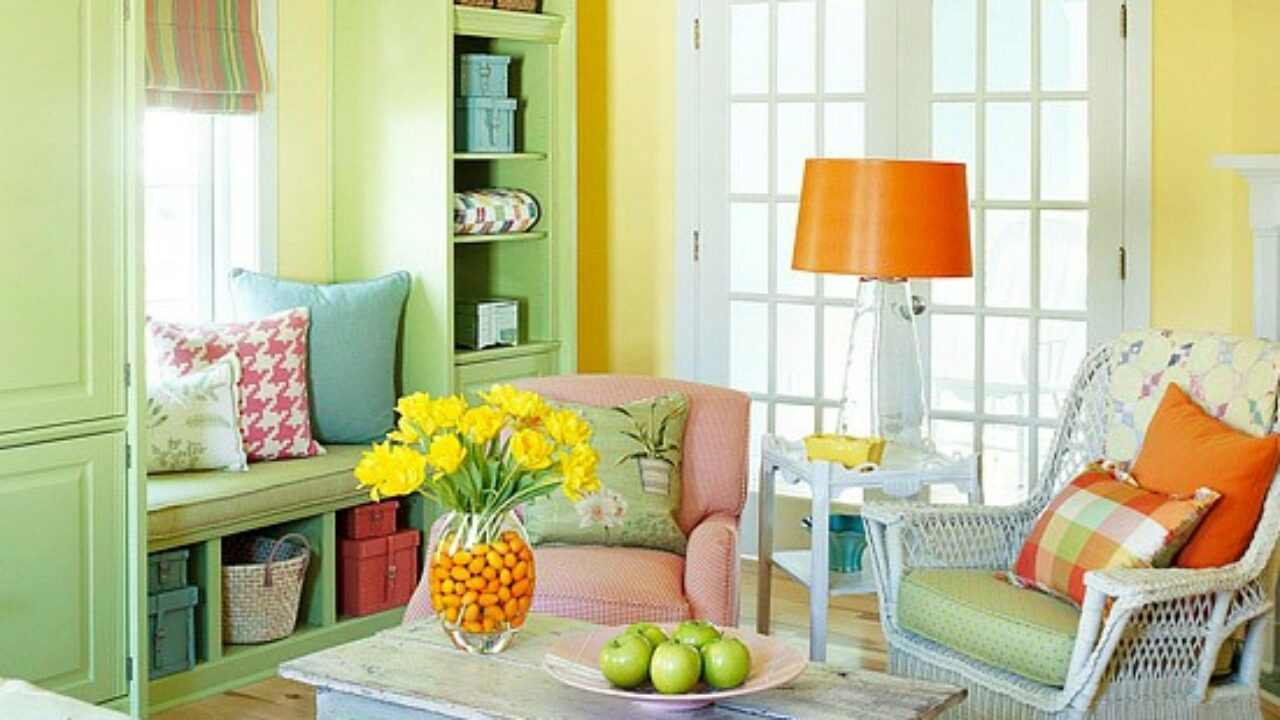biru: (310, 282, 404, 436), (459, 60, 517, 150), (832, 514, 867, 574)
hijau: (905, 571, 1075, 668), (604, 629, 746, 686)
kuning: (369, 393, 591, 494), (805, 431, 887, 468)
orange: (803, 155, 980, 285), (1145, 392, 1278, 564), (433, 536, 536, 632)
pink: (551, 547, 737, 616)
